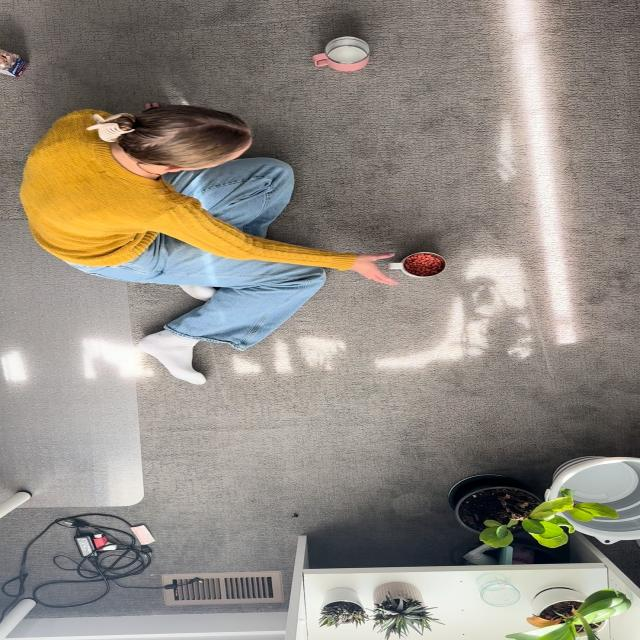IBC: (312, 37, 370, 72), (389, 252, 446, 278)
